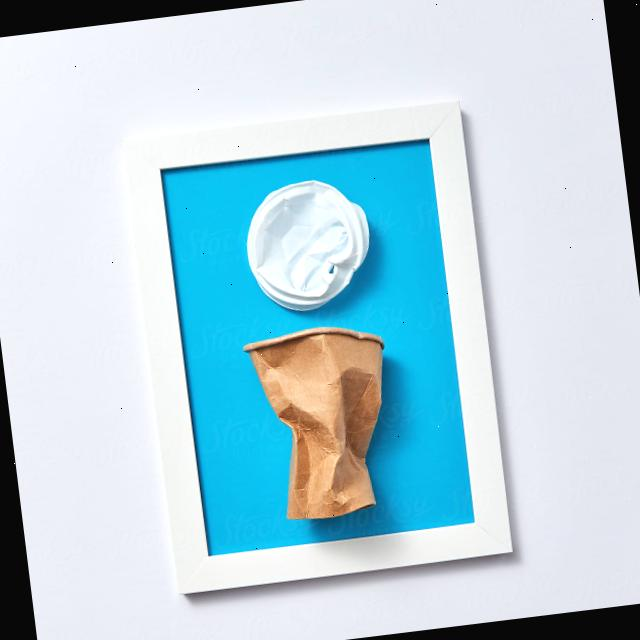trash: (240, 319, 407, 526), (236, 174, 380, 322)
